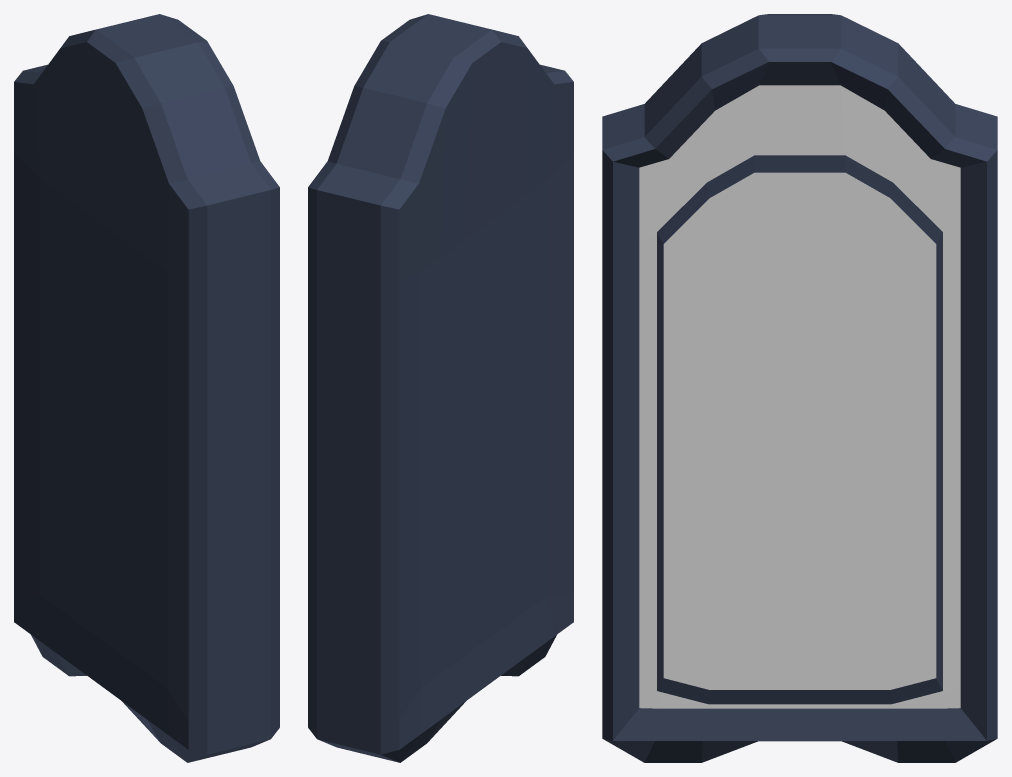
File: Clock.fbx
The picture shows the model from 3 angles, left to right: view 1: azimuth 30°, elevation 25°; view 2: azimuth 150°, elevation 25°; view 3: azimuth 270°, elevation 25°; orthographic projection. The views are drawn at different scales.
Visible parts, largest first — view 1: ClockBody; view 2: ClockBody; view 3: ClockBody, Glass.
Boxes of the visible parts, x1=… form: ClockBody: x1=14, y1=14, x2=279, y2=762; ClockBody: x1=308, y1=14, x2=573, y2=762; ClockBody: x1=602, y1=14, x2=997, y2=762; Glass: x1=663, y1=172, x2=936, y2=689.
Size of the model in its own units: 0.6672 by 4.64 by 2.33.
